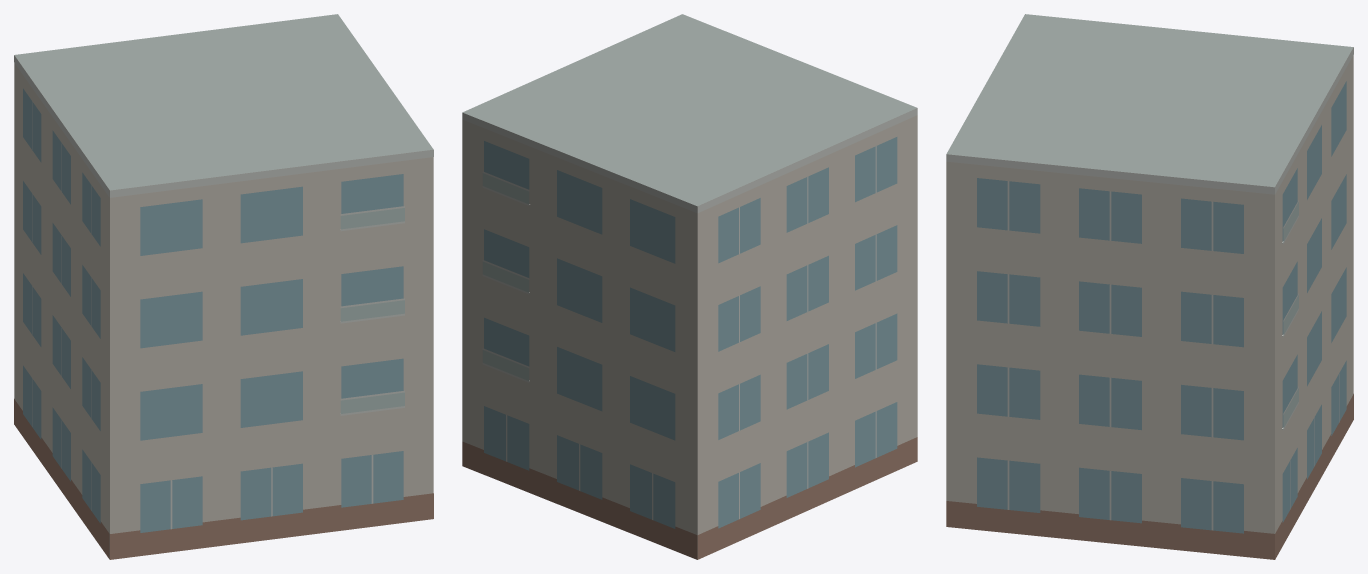
Rendered from residential-33775eba-459a-4ea0-a76b-b27c24d029a9.glb.
3 renders of one model, left to right at view 1: azimuth 30°, elevation 25°; view 2: azimuth 150°, elevation 25°; view 3: azimuth 270°, elevation 25°, orthographic. The views are drawn at different scales.
Visible parts, largest first — view 1: residential-33775eba-459a-4ea0-a76b-b27c24d029a9.tmp; view 2: residential-33775eba-459a-4ea0-a76b-b27c24d029a9.tmp; view 3: residential-33775eba-459a-4ea0-a76b-b27c24d029a9.tmp.
Part boxes in pixels (x1,y1,x2,y2): residential-33775eba-459a-4ea0-a76b-b27c24d029a9.tmp: [14, 14, 433, 559]; residential-33775eba-459a-4ea0-a76b-b27c24d029a9.tmp: [462, 14, 917, 559]; residential-33775eba-459a-4ea0-a76b-b27c24d029a9.tmp: [946, 14, 1353, 559].
Bounding box in the file's own units: 12.17 × 12.2 × 12.1.
